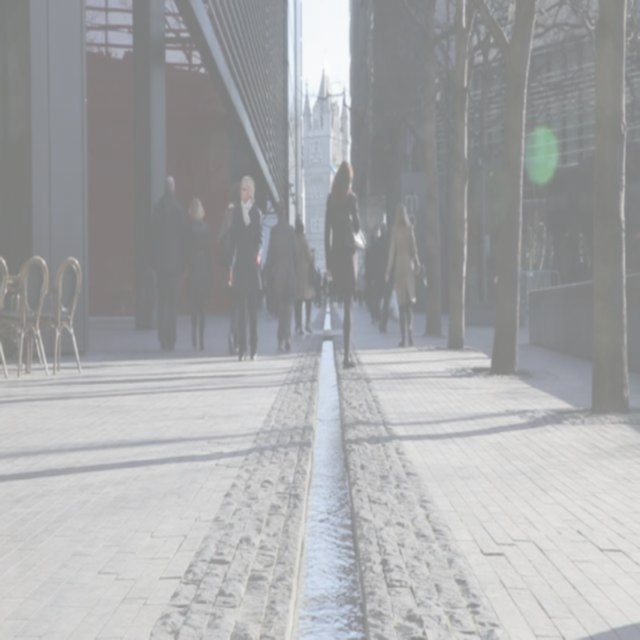pessoa: (322, 156, 367, 372), (223, 168, 266, 362), (148, 170, 188, 354), (384, 198, 422, 350), (264, 200, 300, 353), (182, 191, 214, 352), (220, 186, 240, 356), (371, 221, 396, 336), (353, 228, 377, 322), (311, 261, 344, 308), (292, 215, 305, 333)
